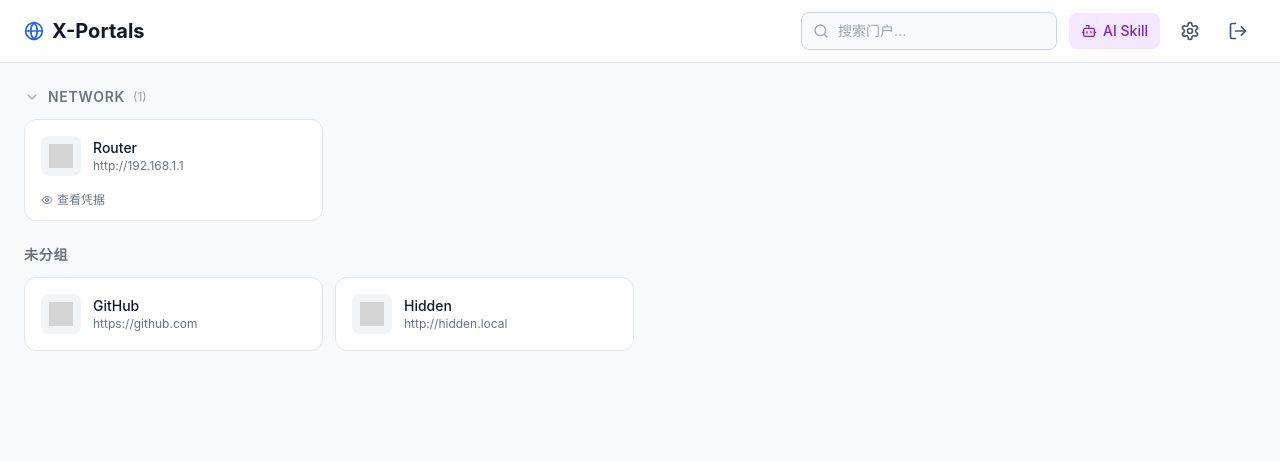
Home page › password is masked by default and can be revealed
Click the button "查看凭据".
click(73, 200)  # box x1=41 y1=192 x2=105 y2=208
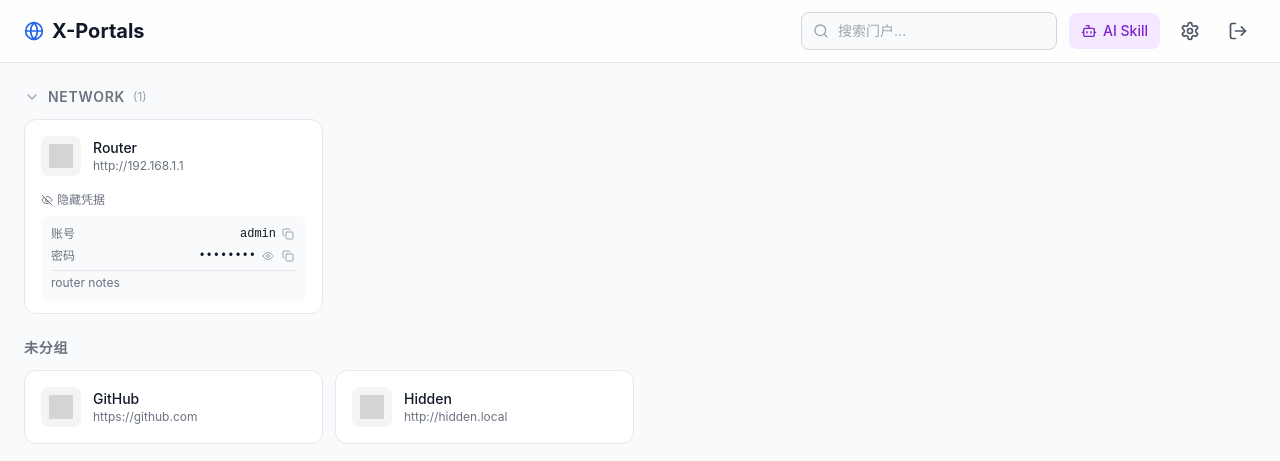
Now the text "••••••••" is shown, box x1=198 y1=248 x2=256 y2=264
Click the 6th button.
click(268, 256)  # box x1=260 y1=248 x2=276 y2=264
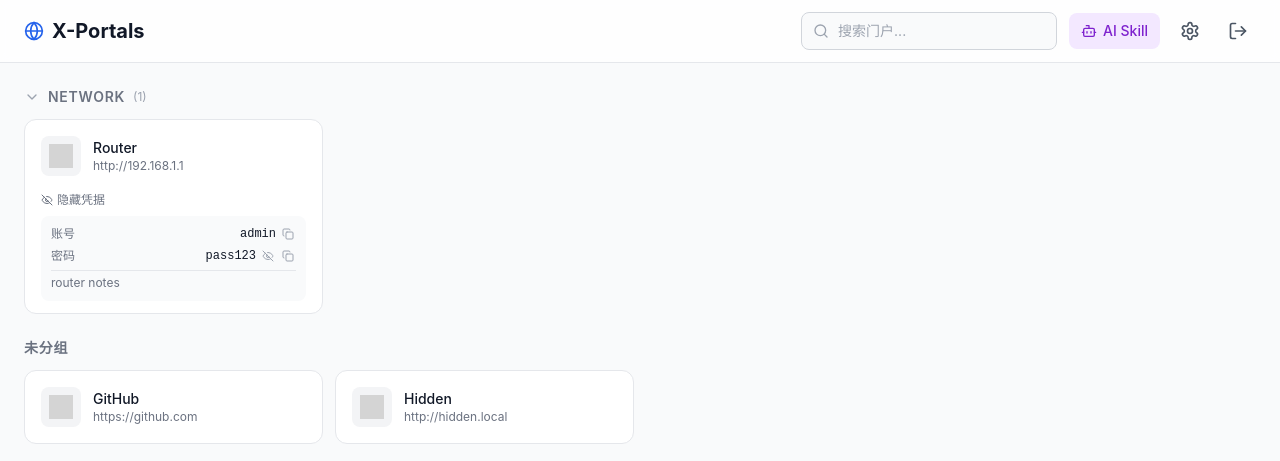
Now the text "pass123" is shown, box x1=206 y1=248 x2=256 y2=264
